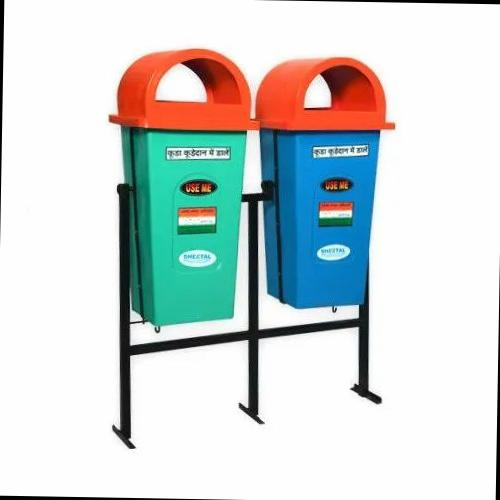garbage bin: (110, 49, 258, 326), (257, 57, 395, 307)
